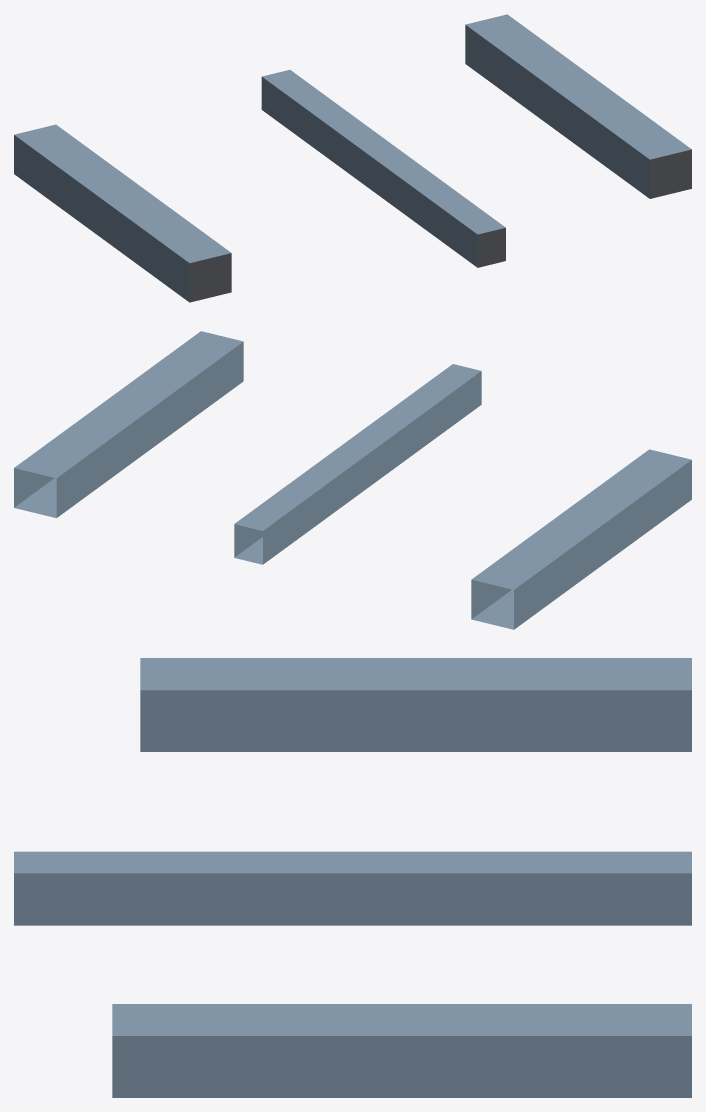
Rendered from island_bldg_06_07.obj.
The picture shows the model from 3 angles, top to bottom: view 1: azimuth 30°, elevation 25°; view 2: azimuth 150°, elevation 25°; view 3: azimuth 270°, elevation 25°; orthographic projection. The views are drawn at different scales.
Parts seen in each view (by area): view 1: island_bldg_06_07; view 2: island_bldg_06_07; view 3: island_bldg_06_07.
Part boxes in pixels (bbox=[...]): island_bldg_06_07: bbox=[14, 14, 691, 302]; island_bldg_06_07: bbox=[14, 331, 691, 629]; island_bldg_06_07: bbox=[14, 658, 691, 1097].
Size of the model in its own units: 223 by 17 by 169.
